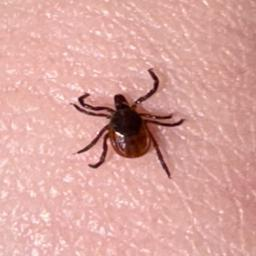Ixodes scapularis: (72, 69, 182, 179)
